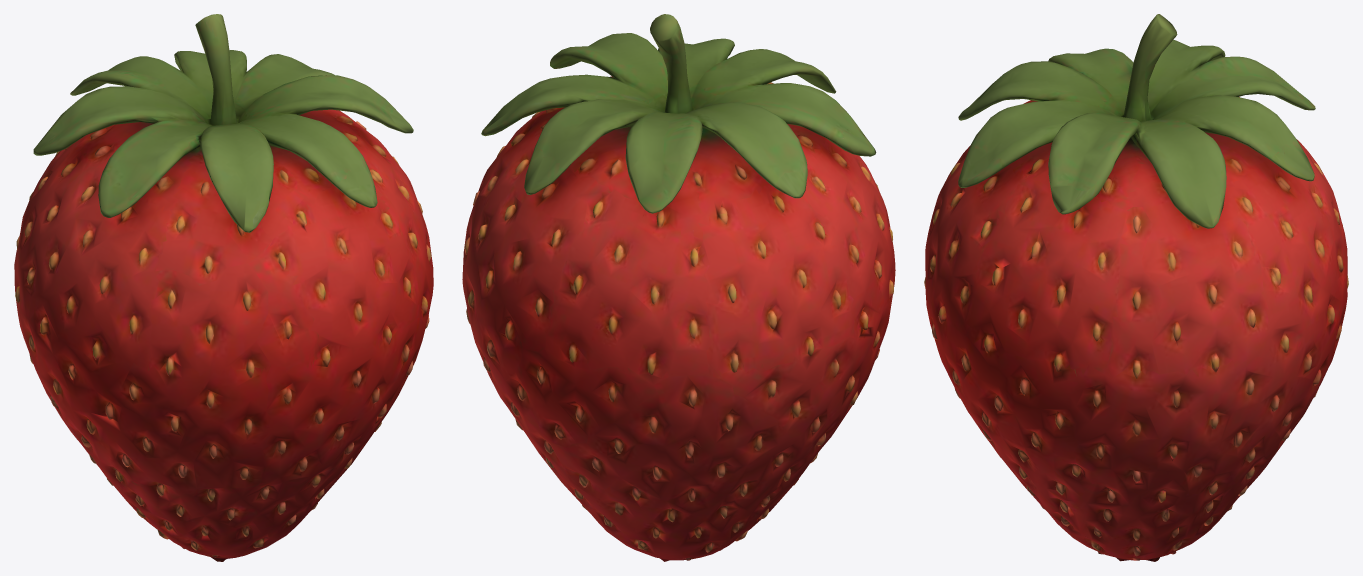
File: berry.glb
3 views of the same model, side by side, from view 1: azimuth 30°, elevation 25°; view 2: azimuth 150°, elevation 25°; view 3: azimuth 270°, elevation 25° (orthographic). The views are drawn at different scales.
Visible parts, largest first — view 1: tripo_node_f1f5c926-8c9c-4db0-8743-9228ea2f41c9; view 2: tripo_node_f1f5c926-8c9c-4db0-8743-9228ea2f41c9; view 3: tripo_node_f1f5c926-8c9c-4db0-8743-9228ea2f41c9.
Boxes of the visible parts, box(x1,y1,x2,y2) form: tripo_node_f1f5c926-8c9c-4db0-8743-9228ea2f41c9: box(14, 14, 433, 561); tripo_node_f1f5c926-8c9c-4db0-8743-9228ea2f41c9: box(462, 14, 895, 561); tripo_node_f1f5c926-8c9c-4db0-8743-9228ea2f41c9: box(924, 14, 1348, 561).
Size of the model in its own units: 0.7219 by 0.9999 by 0.7168.
1 material, 1 textured.
